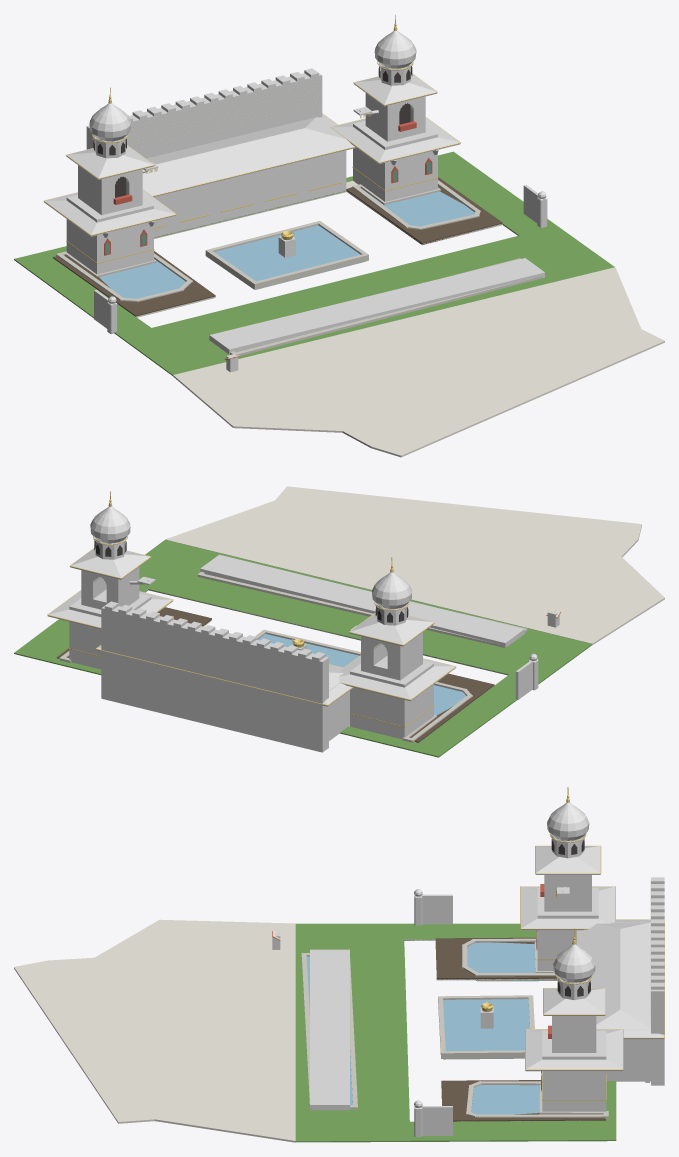
The model's file is FK_fakir.fbx.
3 renders of one model, top to bottom at view 1: azimuth 30°, elevation 25°; view 2: azimuth 150°, elevation 25°; view 3: azimuth 270°, elevation 25°, orthographic. The views are drawn at different scales.
Visible parts, largest first — view 1: static__MAT_grind_0, static__MAT_gras_0, static__TEX_pannen_0, static__TEX_stuc_V_0, COLL_1, static__MAT_rand_0, static__MAT_water_0, COLL_0, COLL_8, static__TEX_stuc_L_0, static__MAT_modder_0, COLL_2 (+4 smaller); view 2: static__MAT_grind_0, static__TEX_stuc_A_0, COLL_1, static__MAT_gras_0, COLL_0, static__TEX_pannen_0, COLL_8, COLL_2, static__TEX_stuc_L_0, static__MAT_rand_0, COLL_3, static__MAT_goud_0 (+3 smaller); view 3: static__MAT_grind_0, static__MAT_gras_0, static__TEX_pannen_0, static__TEX_stuc_R_0, static__MAT_water_0, COLL_8, static__MAT_rand_0, static__MAT_modder_0, COLL_3, static__TEX_stuc_A_0, COLL_2, static__MAT_goud_0 (+4 smaller).
Part boxes in pixels (x1=…): static__MAT_grind_0: x1=53, y1=181, x2=664, y2=457; static__MAT_gras_0: x1=14, y1=151, x2=614, y2=375; static__TEX_pannen_0: x1=44, y1=74, x2=460, y2=236; static__TEX_stuc_V_0: x1=97, y1=42, x2=546, y2=333; COLL_1: x1=86, y1=70, x2=322, y2=158; static__MAT_rand_0: x1=56, y1=77, x2=542, y2=355; static__MAT_water_0: x1=99, y1=188, x2=474, y2=298; COLL_0: x1=154, y1=117, x2=346, y2=237; COLL_8: x1=209, y1=258, x2=544, y2=354; static__TEX_stuc_L_0: x1=66, y1=40, x2=541, y2=333; static__MAT_modder_0: x1=53, y1=177, x2=502, y2=316; COLL_2: x1=66, y1=195, x2=153, y2=274; static__MAT_grind_0: x1=57, y1=486, x2=664, y2=742; static__TEX_stuc_A_0: x1=69, y1=506, x2=537, y2=752; COLL_1: x1=101, y1=603, x2=328, y2=750; static__MAT_gras_0: x1=14, y1=540, x2=592, y2=757; COLL_0: x1=106, y1=648, x2=349, y2=749; static__TEX_pannen_0: x1=48, y1=548, x2=455, y2=706; COLL_8: x1=200, y1=554, x2=524, y2=647; COLL_2: x1=350, y1=660, x2=433, y2=739; static__TEX_stuc_L_0: x1=93, y1=515, x2=538, y2=751; static__MAT_rand_0: x1=59, y1=571, x2=527, y2=742; COLL_3: x1=69, y1=593, x2=151, y2=668; static__MAT_goud_0: x1=47, y1=491, x2=456, y2=727; static__MAT_grind_0: x1=14, y1=919, x2=587, y2=1142; static__MAT_gras_0: x1=295, y1=923, x2=616, y2=1142; static__TEX_pannen_0: x1=520, y1=846, x2=664, y2=1071; static__TEX_stuc_R_0: x1=414, y1=815, x2=664, y2=1136; static__MAT_water_0: x1=306, y1=942, x2=539, y2=1114; COLL_8: x1=310, y1=949, x2=349, y2=1110; static__MAT_rand_0: x1=301, y1=881, x2=650, y2=1118; static__MAT_modder_0: x1=435, y1=937, x2=605, y2=1121; COLL_3: x1=542, y1=1030, x2=606, y2=1111; static__TEX_stuc_A_0: x1=414, y1=802, x2=664, y2=1108; COLL_2: x1=537, y1=887, x2=598, y2=970; static__MAT_goud_0: x1=481, y1=786, x2=664, y2=1100.
Bounding box in the file's own units: 32.65 × 14.05 × 40.6.
